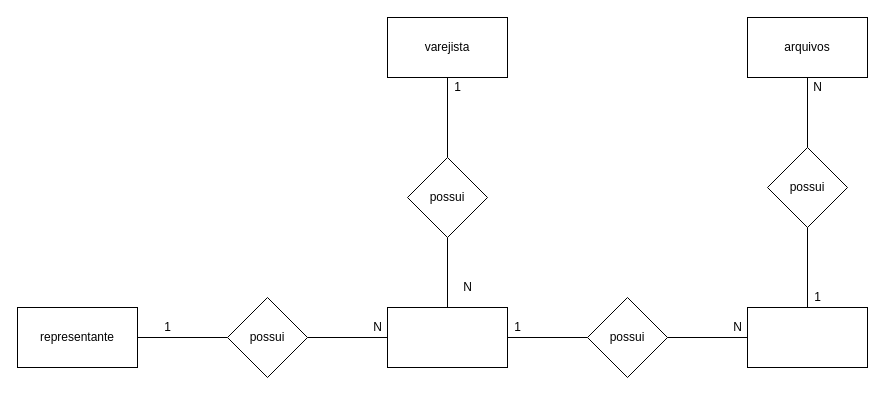
Some shapes in this 885 by 395 pixel diagram are drawn without their labels. The box of each missing label's shape, as (x1, y1, x2, y2) in pixels:
agendamento: (746, 306, 868, 368)
presencas: (386, 306, 508, 368)
